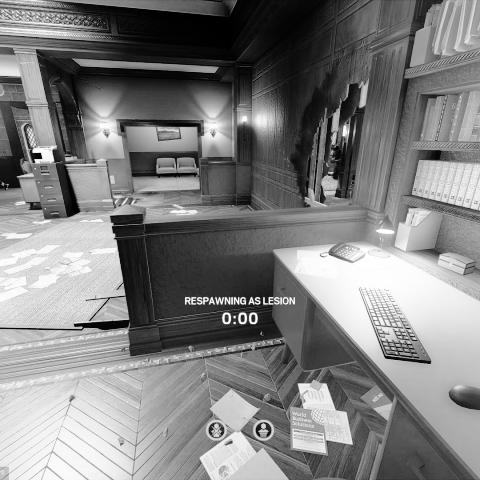Character: (330, 144, 343, 182)
Head: (332, 145, 340, 153)
